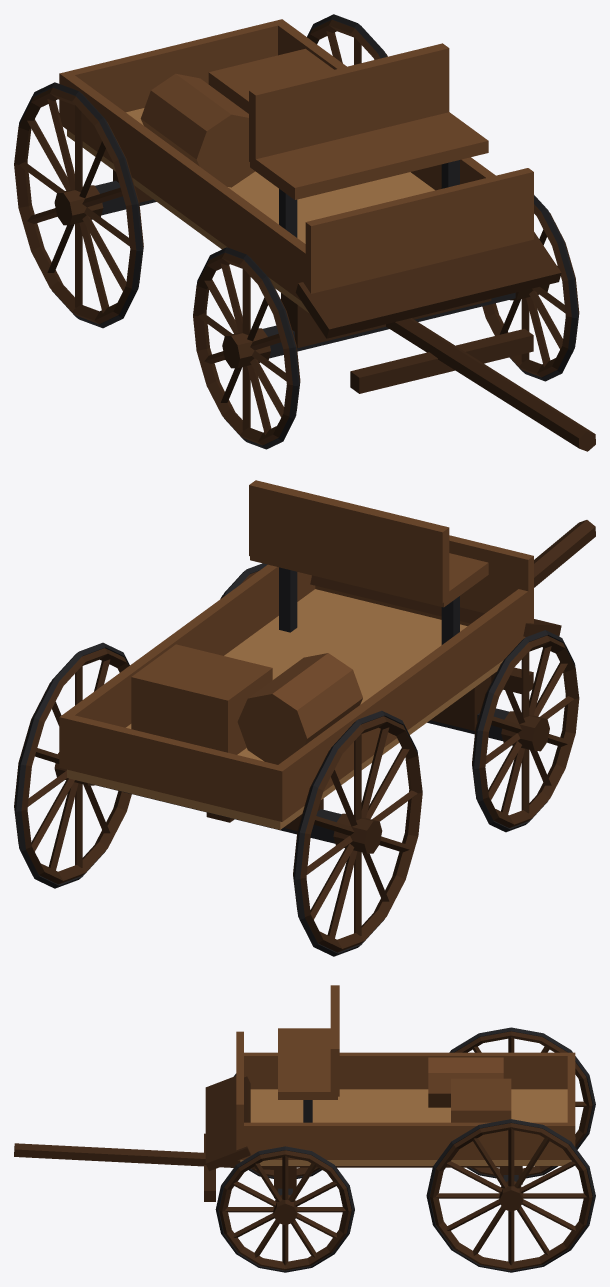
Rendered from SM_Buckboard_Wagon.obj.
3 views of the same model, one above another, from view 1: azimuth 30°, elevation 25°; view 2: azimuth 150°, elevation 25°; view 3: azimuth 270°, elevation 25° (orthographic). The views are drawn at different scales.
Parts seen in each view (by area): view 1: SM_Buckboard_Wagon; view 2: SM_Buckboard_Wagon; view 3: SM_Buckboard_Wagon.
Boxes of the visible parts, left/top/right/bottom form: SM_Buckboard_Wagon: left=14, top=14, right=595, bottom=451; SM_Buckboard_Wagon: left=14, top=480, right=595, bottom=956; SM_Buckboard_Wagon: left=14, top=985, right=595, bottom=1272.
Bounding box in the file's own units: 1.6 × 1.54 × 3.87.
